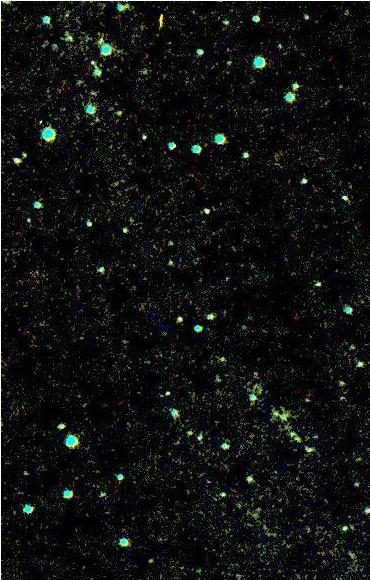star: (136, 544, 166, 574)
